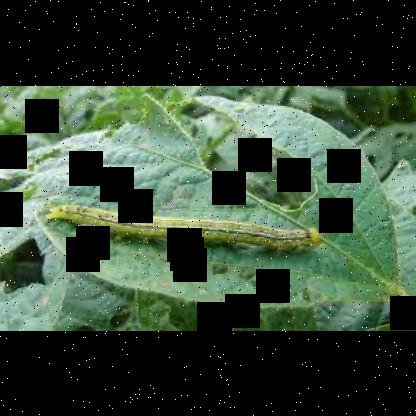agujero: (152, 116, 328, 182), (25, 144, 67, 172), (236, 264, 266, 289), (296, 281, 324, 305), (204, 261, 230, 275)
oruga: (46, 202, 318, 240)
